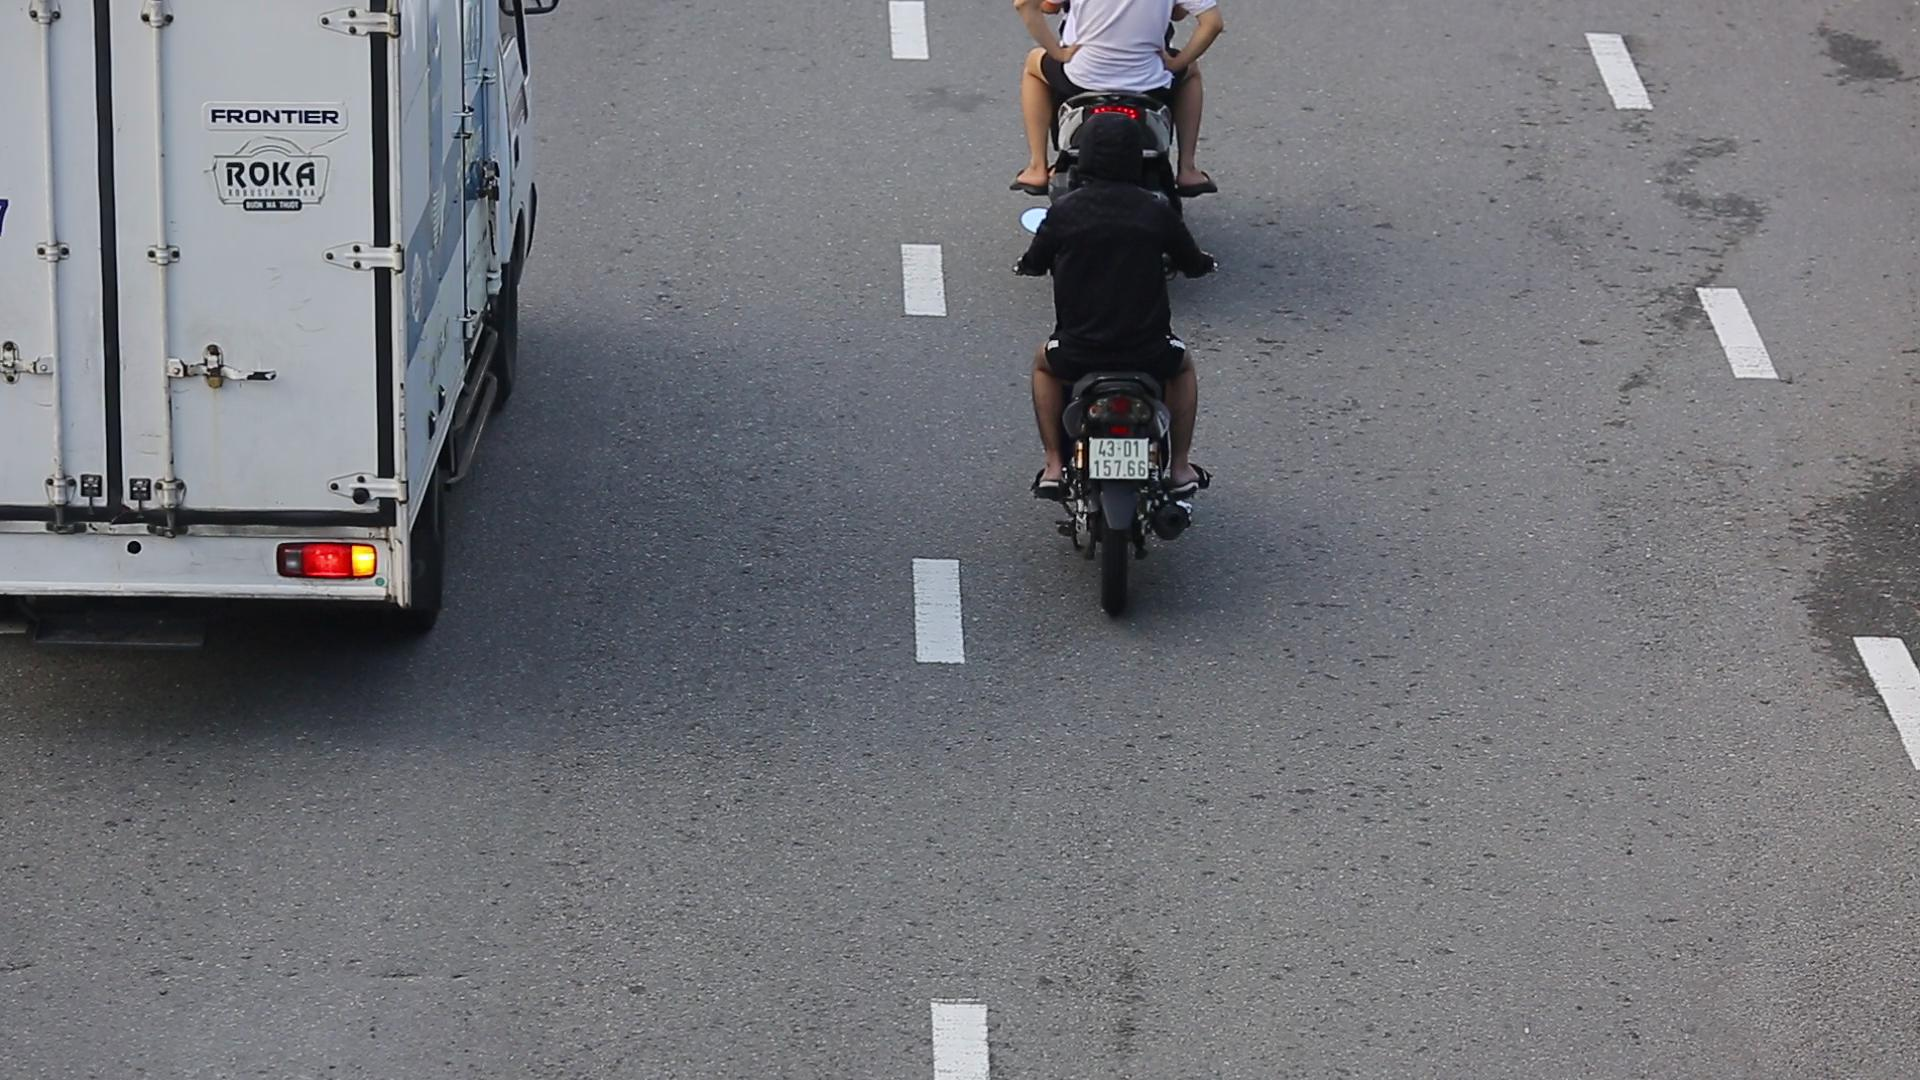motobike: (1004, 105, 1229, 622)
